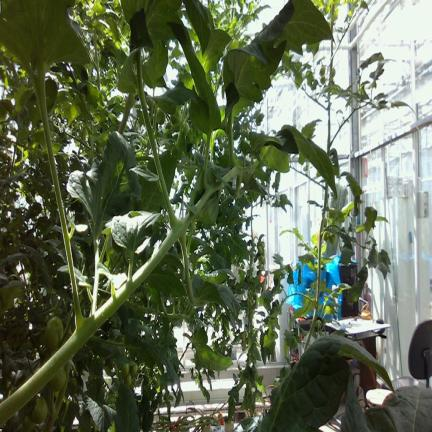6kp_peduncle: (310, 309, 326, 332)
6kp_petiole: (306, 291, 319, 316), (327, 132, 337, 156), (317, 182, 328, 199), (319, 103, 330, 119), (330, 46, 338, 66)
MainStem: (305, 219, 322, 351), (118, 93, 135, 134), (328, 103, 330, 151)
tomato: (44, 317, 63, 350), (31, 397, 47, 423), (49, 368, 65, 391), (156, 108, 165, 124), (124, 373, 132, 386), (122, 363, 129, 377), (183, 122, 189, 136), (132, 364, 138, 374), (165, 121, 172, 129)
